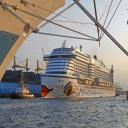cruises: (40, 39, 118, 102)
